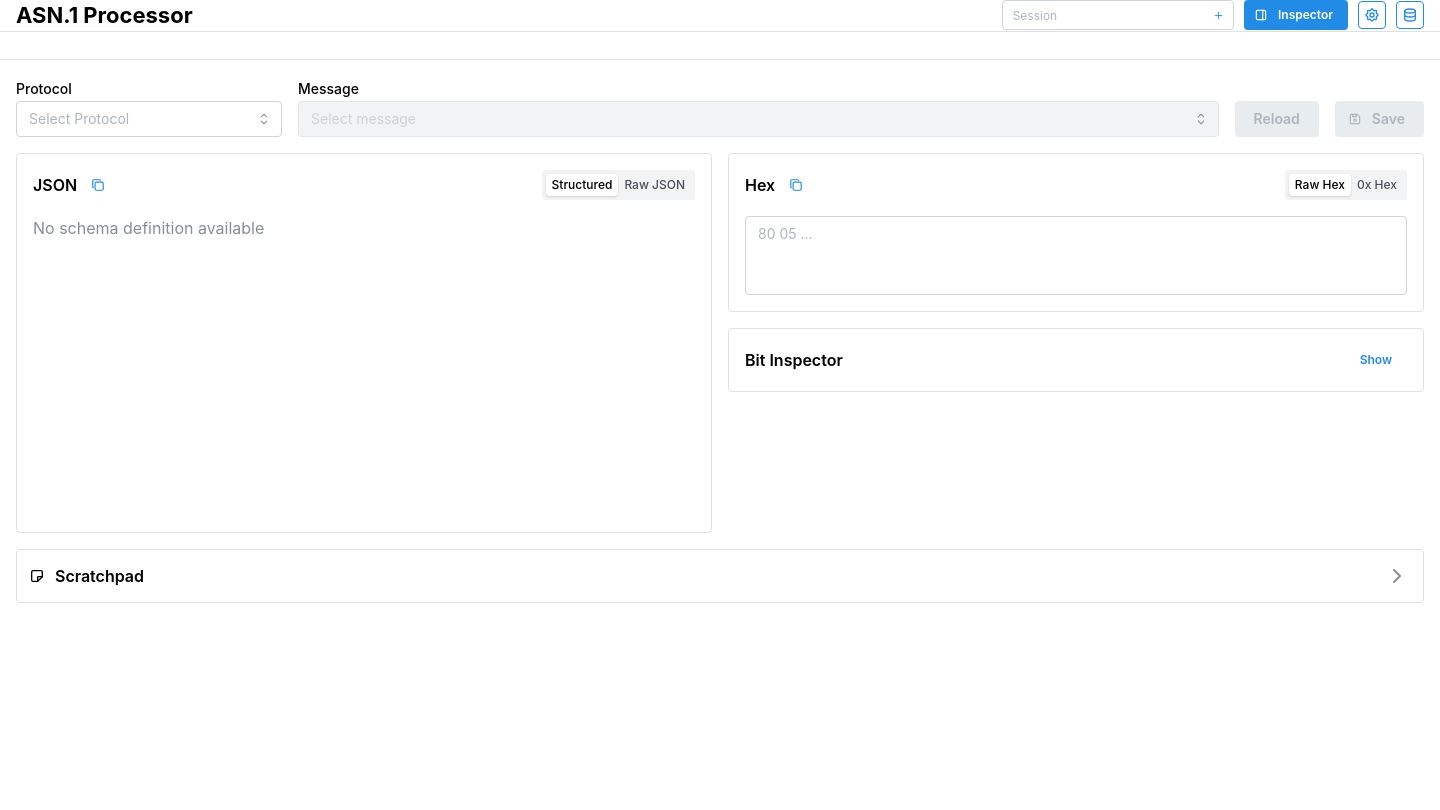
Test: App View › opens settings modal
This screenshot has width=1440, height=810.
What coordinates should you click on to do the following:
click the button named "Settings"
I would click on:
 (1372, 15)
Its box is top-left (1358, 1), bottom-right (1386, 29).
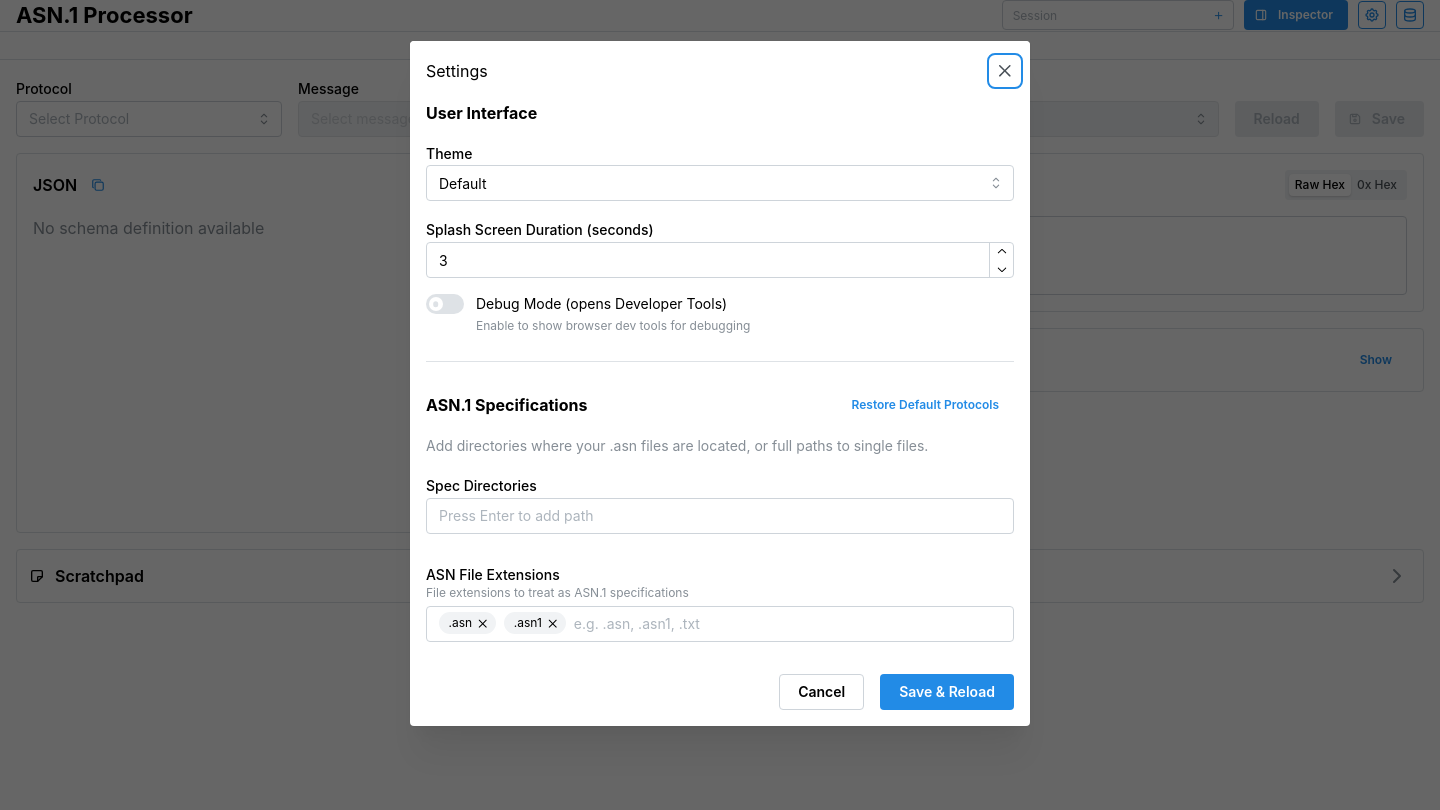
Expected: the heading "Settings" is shown, top-left (426, 62), bottom-right (488, 78)
